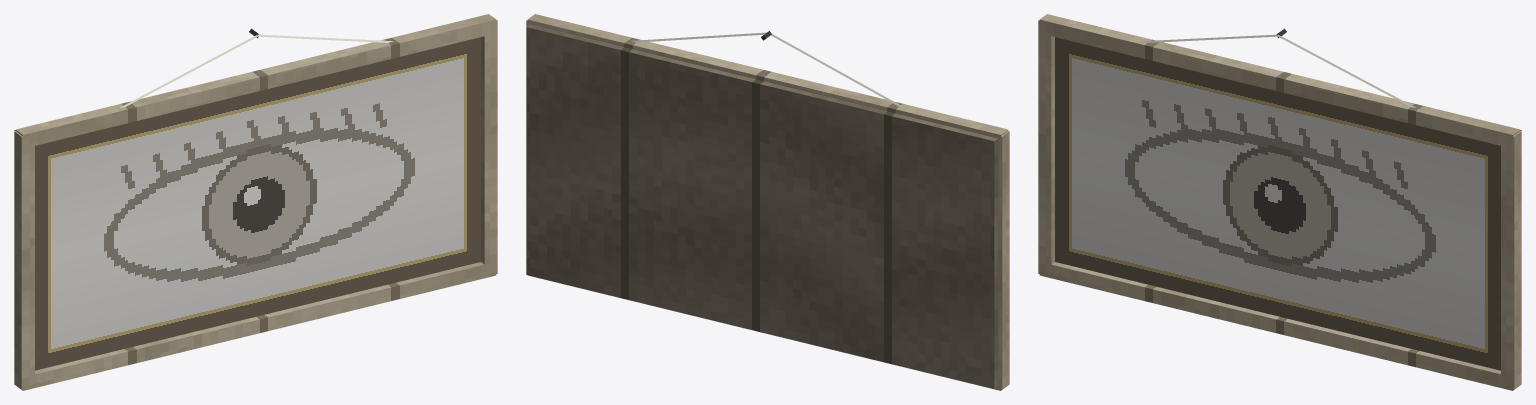
File: painting_eye.glb
The picture shows the model from 3 angles, left to right: view 1: azimuth 30°, elevation 25°; view 2: azimuth 150°, elevation 25°; view 3: azimuth 330°, elevation 25°; orthographic projection.
Parts seen in each view (by area): view 1: body; view 2: body; view 3: body.
Boxes of the visible parts, x1,y1,x2,y2 form: body: [14, 14, 497, 390]; body: [526, 14, 1009, 390]; body: [1038, 14, 1521, 390].
Bounding box in the file's own units: 1.81 × 1.08 × 0.075.
5 materials, 4 textured.
